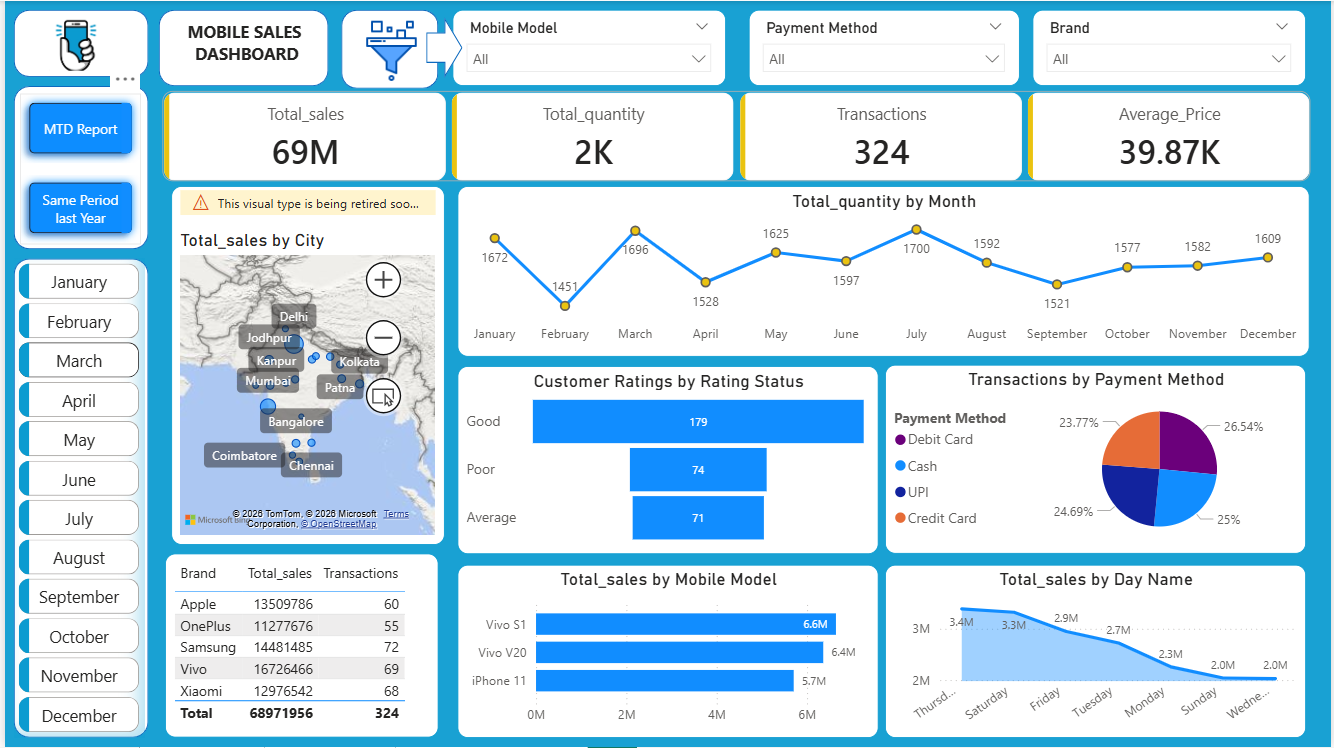

The page's visual inventory and layout, read from the dashboard file:
{"tool":"powerbi","page":{"name":"Dashboard","canvas":[1280,720],"ordinal":0},"visuals":[{"type":"shape","box":[8.8,8.8,130,65],"z":0},{"type":"image","box":[21.2,15,93.8,52.5],"z":1000},{"type":"shape","box":[8.8,82.5,130,157.5],"z":2000},{"type":"shape","box":[8.8,248.8,130,462.5],"z":3000},{"type":"listSlicer","fields":{"Values":["Custom_calendar.Date.Variation.Date Hierarchy.Month"]},"box":[8.8,248.8,126.2,462.5],"z":4000},{"type":"cardVisual","fields":{"Data":["Sales_data.Total_sales","Sales_data.Total_quantity","Sales_data.Transactions","Sales_data.Average_Price"]},"box":[135,70,1145,121.2],"z":5000},{"type":"slicer","fields":{"Values":["Sales_data.Mobile Model"]},"box":[432.5,8.8,263.8,73.8],"z":6000},{"type":"slicer","fields":{"Values":["Sales_data.Brand"]},"box":[991.2,8.8,263.8,73.8],"z":7000},{"type":"slicer","fields":{"Values":["Sales_data.Payment Method"]},"box":[717.5,8.8,261.2,73.8],"z":8000},{"type":"shape","box":[325,8.8,93.8,76.2],"z":9000},{"type":"image","box":[338.8,17.5,67.5,60],"z":10000},{"type":"shape","box":[148.8,8.8,163.8,73.8],"z":11000},{"type":"textbox","box":[160,13.8,141.2,60],"z":12000},{"type":"shape","box":[406.2,16.2,35,58.8],"z":13000},{"type":"map","fields":{"Category":["Sales_data.City"],"Size":["Sales_data.Total_sales"]},"box":[160,178.8,263.8,346.2],"z":14000},{"type":"lineChart","fields":{"Category":["Custom_calendar.Date.Variation.Date Hierarchy.Month"],"Y":["Sales_data.Total_quantity"]},"box":[436.2,178.8,822.5,165],"z":15000},{"type":"funnel","title":"Customer Ratings by Rating Status","fields":{"Category":["Sales_data.Rating Status"],"Y":["CountNonNull(Sales_data.Customer Ratings)"]},"box":[436.2,352.5,406.2,181.2],"z":16000},{"type":"pieChart","fields":{"Y":["Sales_data.Transactions"],"Category":["Sales_data.Payment Method"]},"box":[848.8,351.2,406.2,182.5],"z":17000},{"type":"clusteredBarChart","fields":{"Y":["Sales_data.Total_sales"],"Category":["Sales_data.Mobile Model"]},"box":[436.2,543.8,406.2,167.5],"z":18000},{"type":"areaChart","fields":{"Y":["Sales_data.Total_sales"],"Category":["Custom_calendar.Day Name"]},"box":[848.8,543.8,406.2,167.5],"z":19000},{"type":"tableEx","fields":{"Values":["Sales_data.Brand","Sales_data.Total_sales","Sales_data.Transactions"]},"box":[155,533.8,263.8,177.5],"z":20000},{"type":"pageNavigator","box":[14.5,89.3,117,146],"z":21000}]}

Visuals, with their boxes in screenshot pixels (x1, y1, x2, y2), scaled from the page's 1280x720 canvas onto the 1334x748 screenshot:
shape: <bbox>9, 9, 145, 77</bbox>
image: <bbox>22, 16, 120, 70</bbox>
shape: <bbox>9, 86, 145, 249</bbox>
shape: <bbox>9, 258, 145, 739</bbox>
listSlicer - Custom_calendar.Date.Variation.Date Hierarchy.Month: <bbox>9, 258, 141, 739</bbox>
cardVisual - Sales_data.Total_sales x Sales_data.Total_quantity: <bbox>141, 73, 1333, 199</bbox>
slicer - Sales_data.Mobile Model: <bbox>451, 9, 726, 86</bbox>
slicer - Sales_data.Brand: <bbox>1033, 9, 1308, 86</bbox>
slicer - Sales_data.Payment Method: <bbox>748, 9, 1020, 86</bbox>
shape: <bbox>339, 9, 436, 88</bbox>
image: <bbox>353, 18, 423, 81</bbox>
shape: <bbox>155, 9, 326, 86</bbox>
textbox: <bbox>167, 14, 314, 77</bbox>
shape: <bbox>423, 17, 460, 78</bbox>
map - Sales_data.City x Sales_data.Total_sales: <bbox>167, 186, 442, 545</bbox>
lineChart - Custom_calendar.Date.Variation.Date Hierarchy.Month x Sales_data.Total_quantity: <bbox>455, 186, 1312, 357</bbox>
"Customer Ratings by Rating Status" funnel: <bbox>455, 366, 878, 554</bbox>
pieChart - Sales_data.Transactions x Sales_data.Payment Method: <bbox>885, 365, 1308, 554</bbox>
clusteredBarChart - Sales_data.Total_sales x Sales_data.Mobile Model: <bbox>455, 565, 878, 739</bbox>
areaChart - Sales_data.Total_sales x Custom_calendar.Day Name: <bbox>885, 565, 1308, 739</bbox>
tableEx - Sales_data.Brand x Sales_data.Total_sales: <bbox>162, 555, 436, 739</bbox>
pageNavigator: <bbox>15, 93, 137, 244</bbox>
